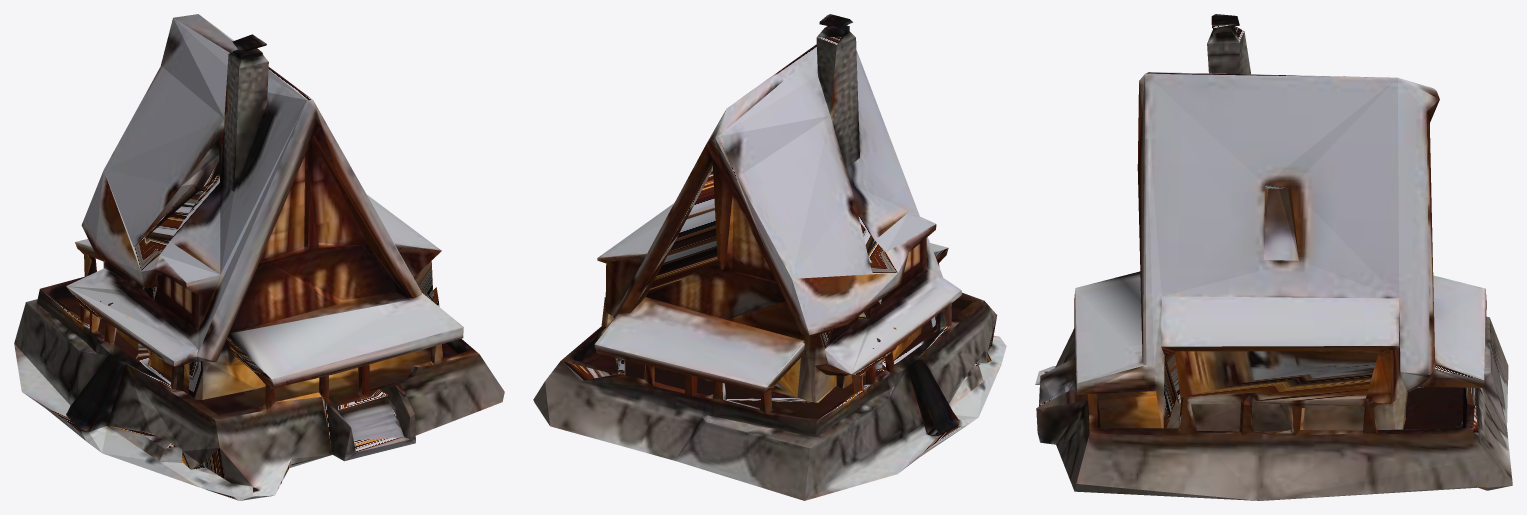
File: alpine_ski_lodge.glb
3 views of the same model, side by side, from view 1: azimuth 30°, elevation 25°; view 2: azimuth 150°, elevation 25°; view 3: azimuth 270°, elevation 25° (orthographic). The views are drawn at different scales.
Parts seen in each view (by area): view 1: textured; view 2: textured; view 3: textured.
Boxes of the visible parts, x1=… form: textured: x1=14, y1=14, x2=504, y2=500; textured: x1=533, y1=14, x2=1006, y2=500; textured: x1=1035, y1=14, x2=1512, y2=500.
Bounding box in the file's own units: 1.81 × 1.82 × 1.97.
Materials: 1 (1 with a texture image).
